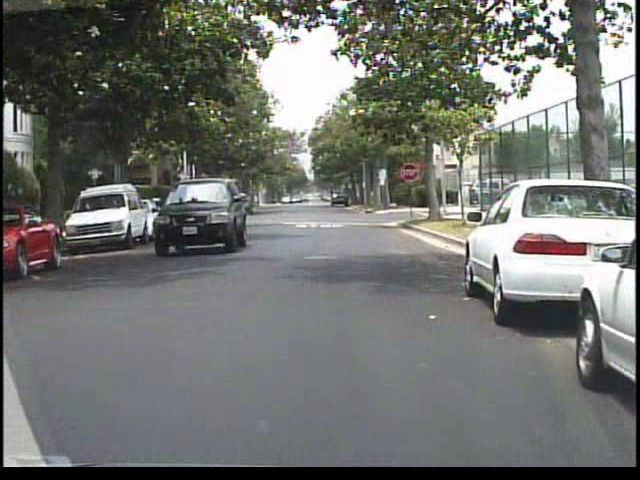person: (245, 182, 265, 225)
